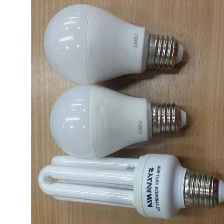light_bulb: (36, 148, 224, 222), (38, 2, 188, 88), (44, 79, 191, 163)
